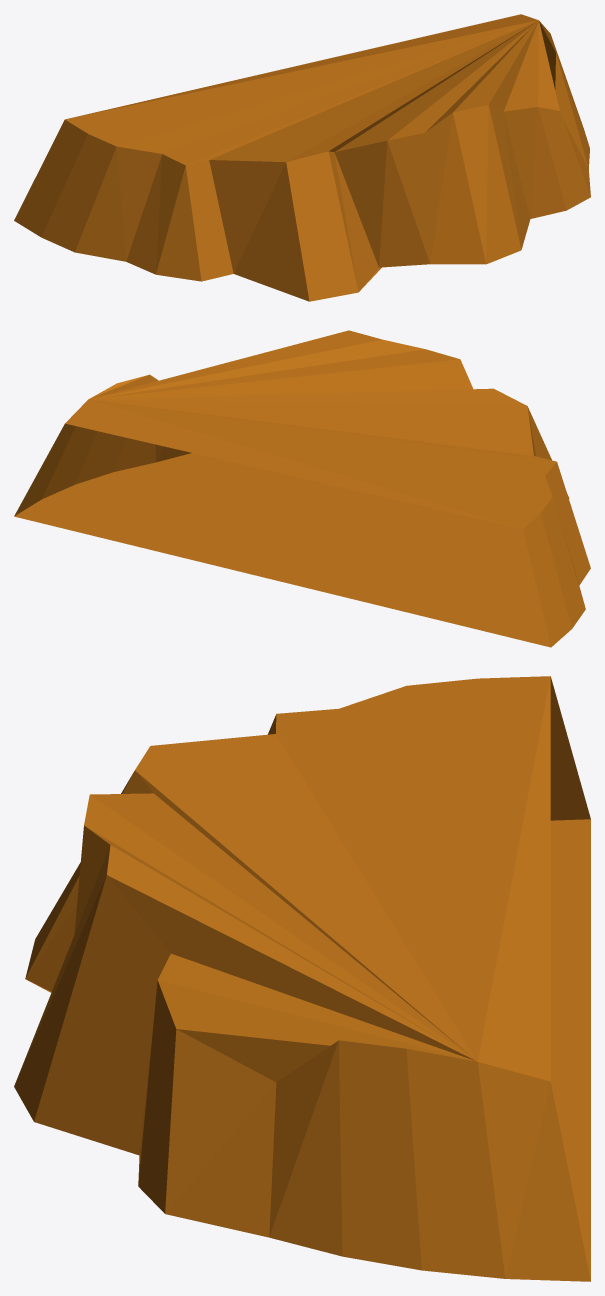
The model's file is australiacliff.fbx.
3 renders of one model, top to bottom at view 1: azimuth 30°, elevation 25°; view 2: azimuth 150°, elevation 25°; view 3: azimuth 270°, elevation 25°, orthographic. The views are drawn at different scales.
Visible parts, largest first — view 1: pCylinder1; view 2: pCylinder1; view 3: pCylinder1.
Boxes of the visible parts, box(x1,y1,x2,y2) form: pCylinder1: box(14, 14, 590, 301); pCylinder1: box(14, 330, 590, 647); pCylinder1: box(14, 676, 590, 1281).
Size of the model in its own units: 1.97 by 0.4686 by 1.04.
